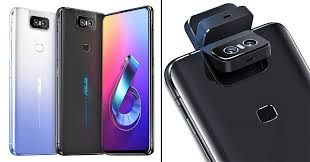asus: (7, 5, 56, 157), (53, 6, 102, 158)
